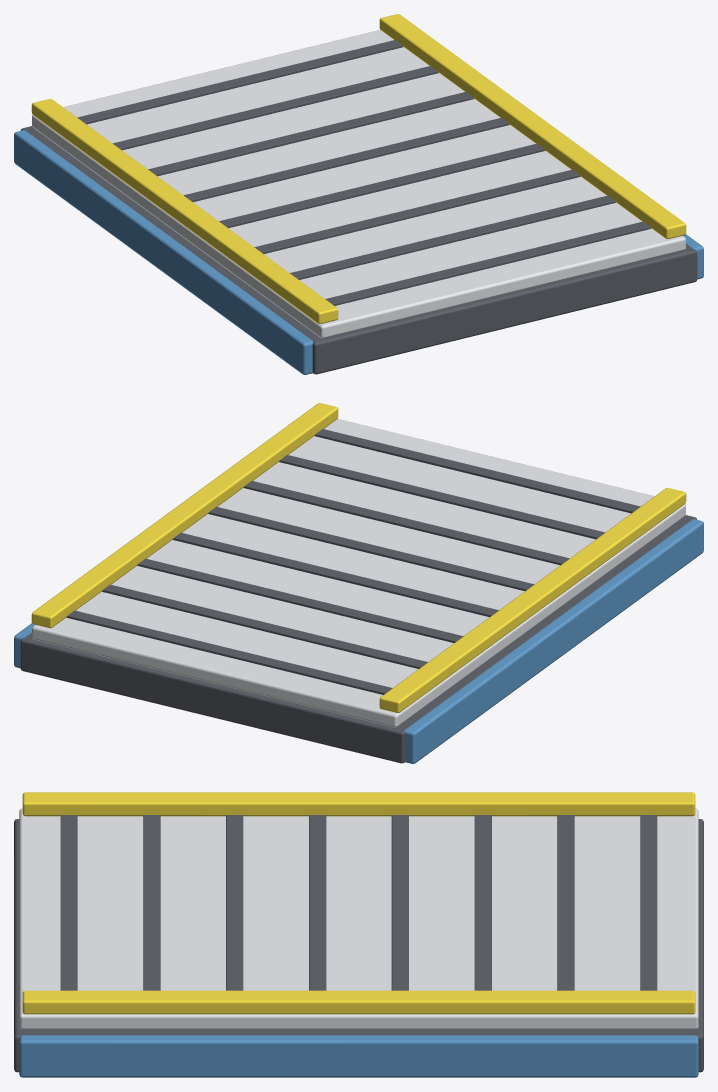
The model's file is skillet-conveyor-platform.glb.
3 views of the same model, one above another, from view 1: azimuth 30°, elevation 25°; view 2: azimuth 150°, elevation 25°; view 3: azimuth 270°, elevation 25° (orthographic). The views are drawn at different scales.
Parts seen in each view (by area): view 1: skillet-conveyor-platform; view 2: skillet-conveyor-platform; view 3: skillet-conveyor-platform.
Boxes of the visible parts, x1,y1,x2,y2 form: skillet-conveyor-platform: [14, 14, 703, 374]; skillet-conveyor-platform: [14, 403, 703, 763]; skillet-conveyor-platform: [14, 792, 703, 1077].
Bounding box in the file's own units: 3.14 × 0.435 × 4.
